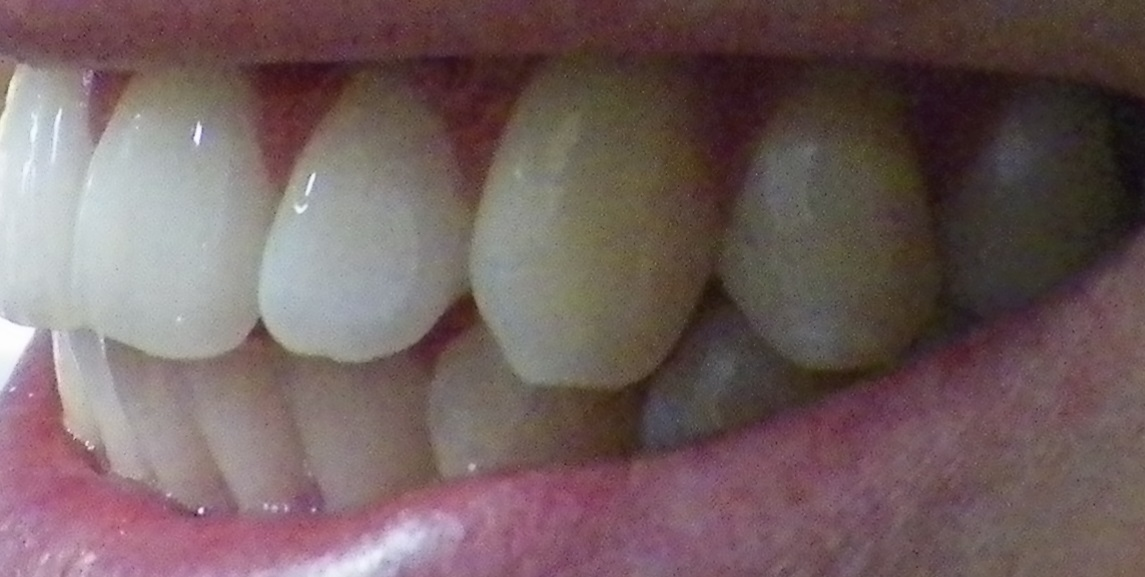boca: (7, 54, 1126, 505)
